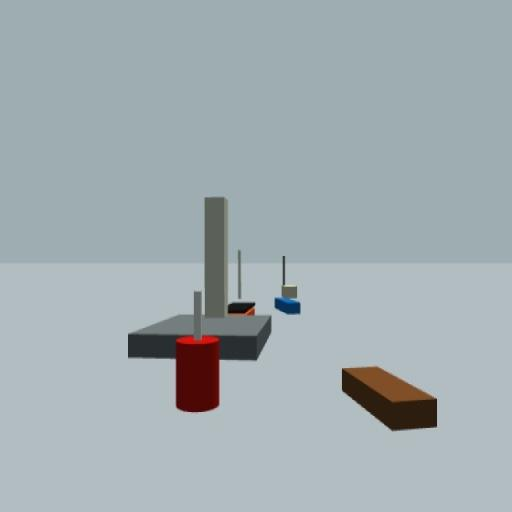debris_container: (341, 364, 438, 433)
fishing_boat: (274, 256, 302, 316)
floating_obstacle: (174, 291, 221, 415)
platform: (127, 194, 271, 363)
